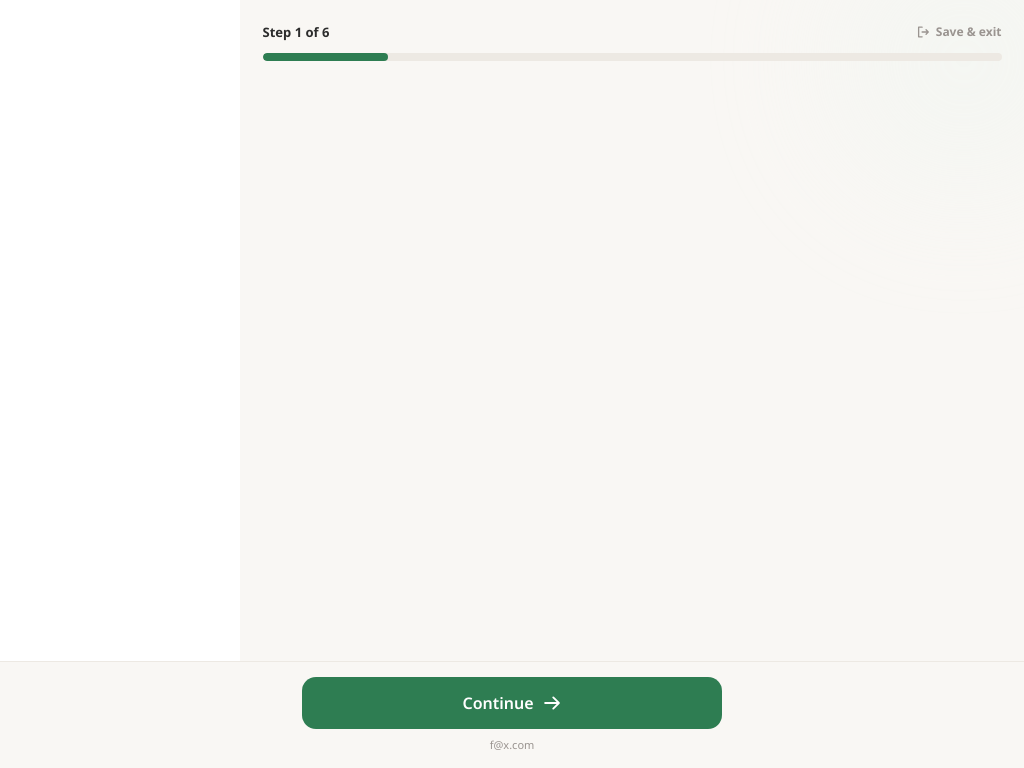
onboarding wizard › persists step one and moves to the farm step
Earlier steps of the test are not shown.
Click the button "Continue" at (512, 703), box [302,677,722,729]
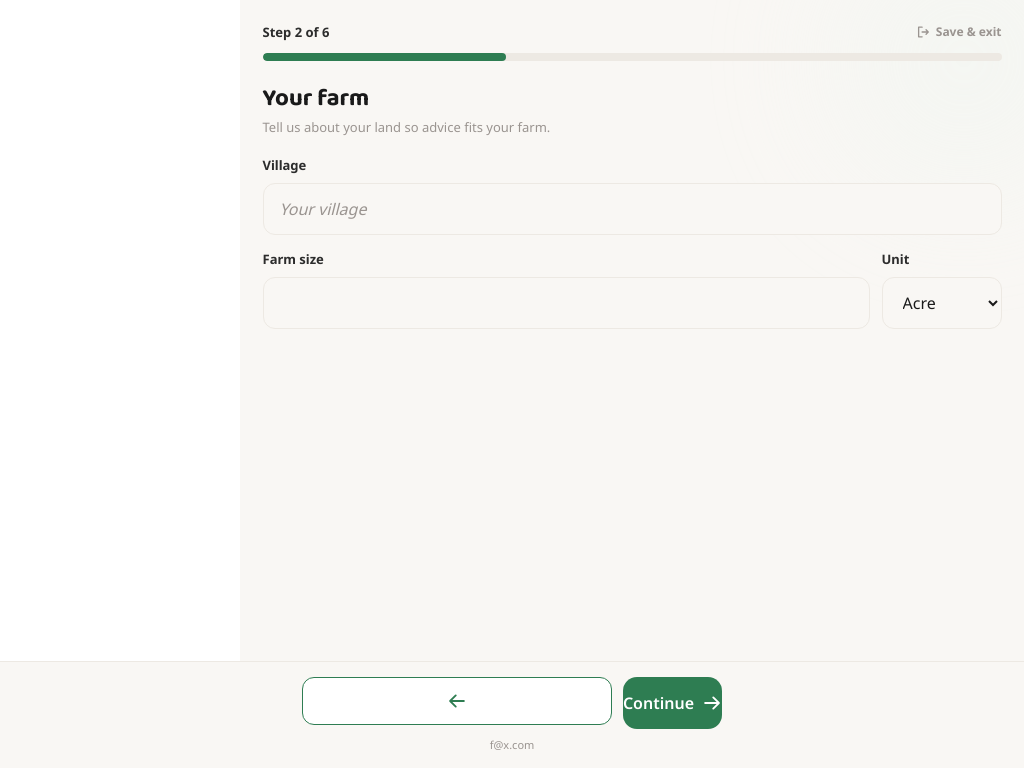
Check: the heading "Your farm" is shown, box [262,79,369,118]
